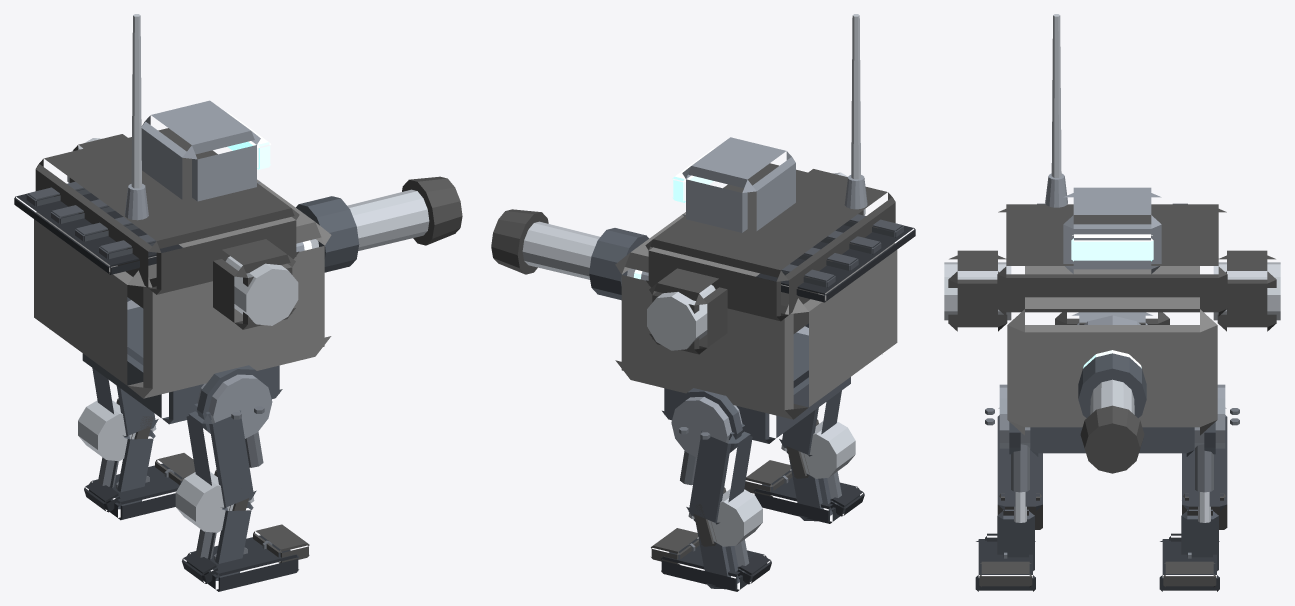
File: commander.glb
3 views of the same model, side by side, from view 1: azimuth 30°, elevation 25°; view 2: azimuth 150°, elevation 25°; view 3: azimuth 270°, elevation 25° (orthographic). The views are drawn at different scales.
Parts seen in each view (by area): view 1: body, turret; view 2: body, turret; view 3: body, turret.
Part boxes in pixels (x1,y1,x2,y2): body: (14,14,331,591); turret: (127,176,462,308); body: (615,14,915,591); turret: (491,209,808,333); body: (944,14,1280,591); turret: (1055,312,1169,473).
Bounding box in the file's own units: 38.25 × 53.13 × 30.72.
